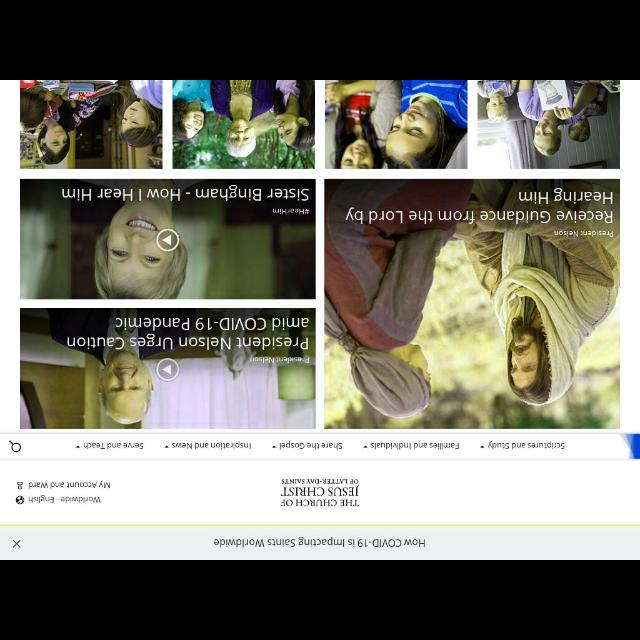icon: (7, 440, 20, 452), (14, 496, 24, 506), (13, 539, 21, 549), (16, 482, 24, 490), (480, 444, 486, 448), (362, 444, 366, 450), (272, 444, 276, 450), (164, 445, 170, 449), (76, 444, 80, 450)
image: (326, 180, 620, 428), (19, 308, 314, 429), (20, 179, 314, 299), (19, 80, 162, 168), (172, 81, 314, 169), (326, 80, 466, 168), (478, 82, 620, 168), (281, 478, 359, 508)
multitab: (1, 434, 639, 458)
text: (214, 535, 426, 547), (29, 480, 111, 490), (172, 440, 252, 450), (488, 440, 566, 450), (28, 493, 102, 503), (280, 440, 344, 450), (370, 442, 460, 448), (84, 442, 144, 450)
